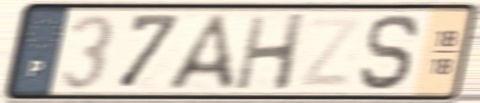3: (59, 7, 120, 96)
7: (119, 11, 183, 92)
A: (162, 10, 240, 93)
H: (232, 10, 310, 94)
S: (356, 12, 424, 94)
Z: (295, 14, 365, 90)
